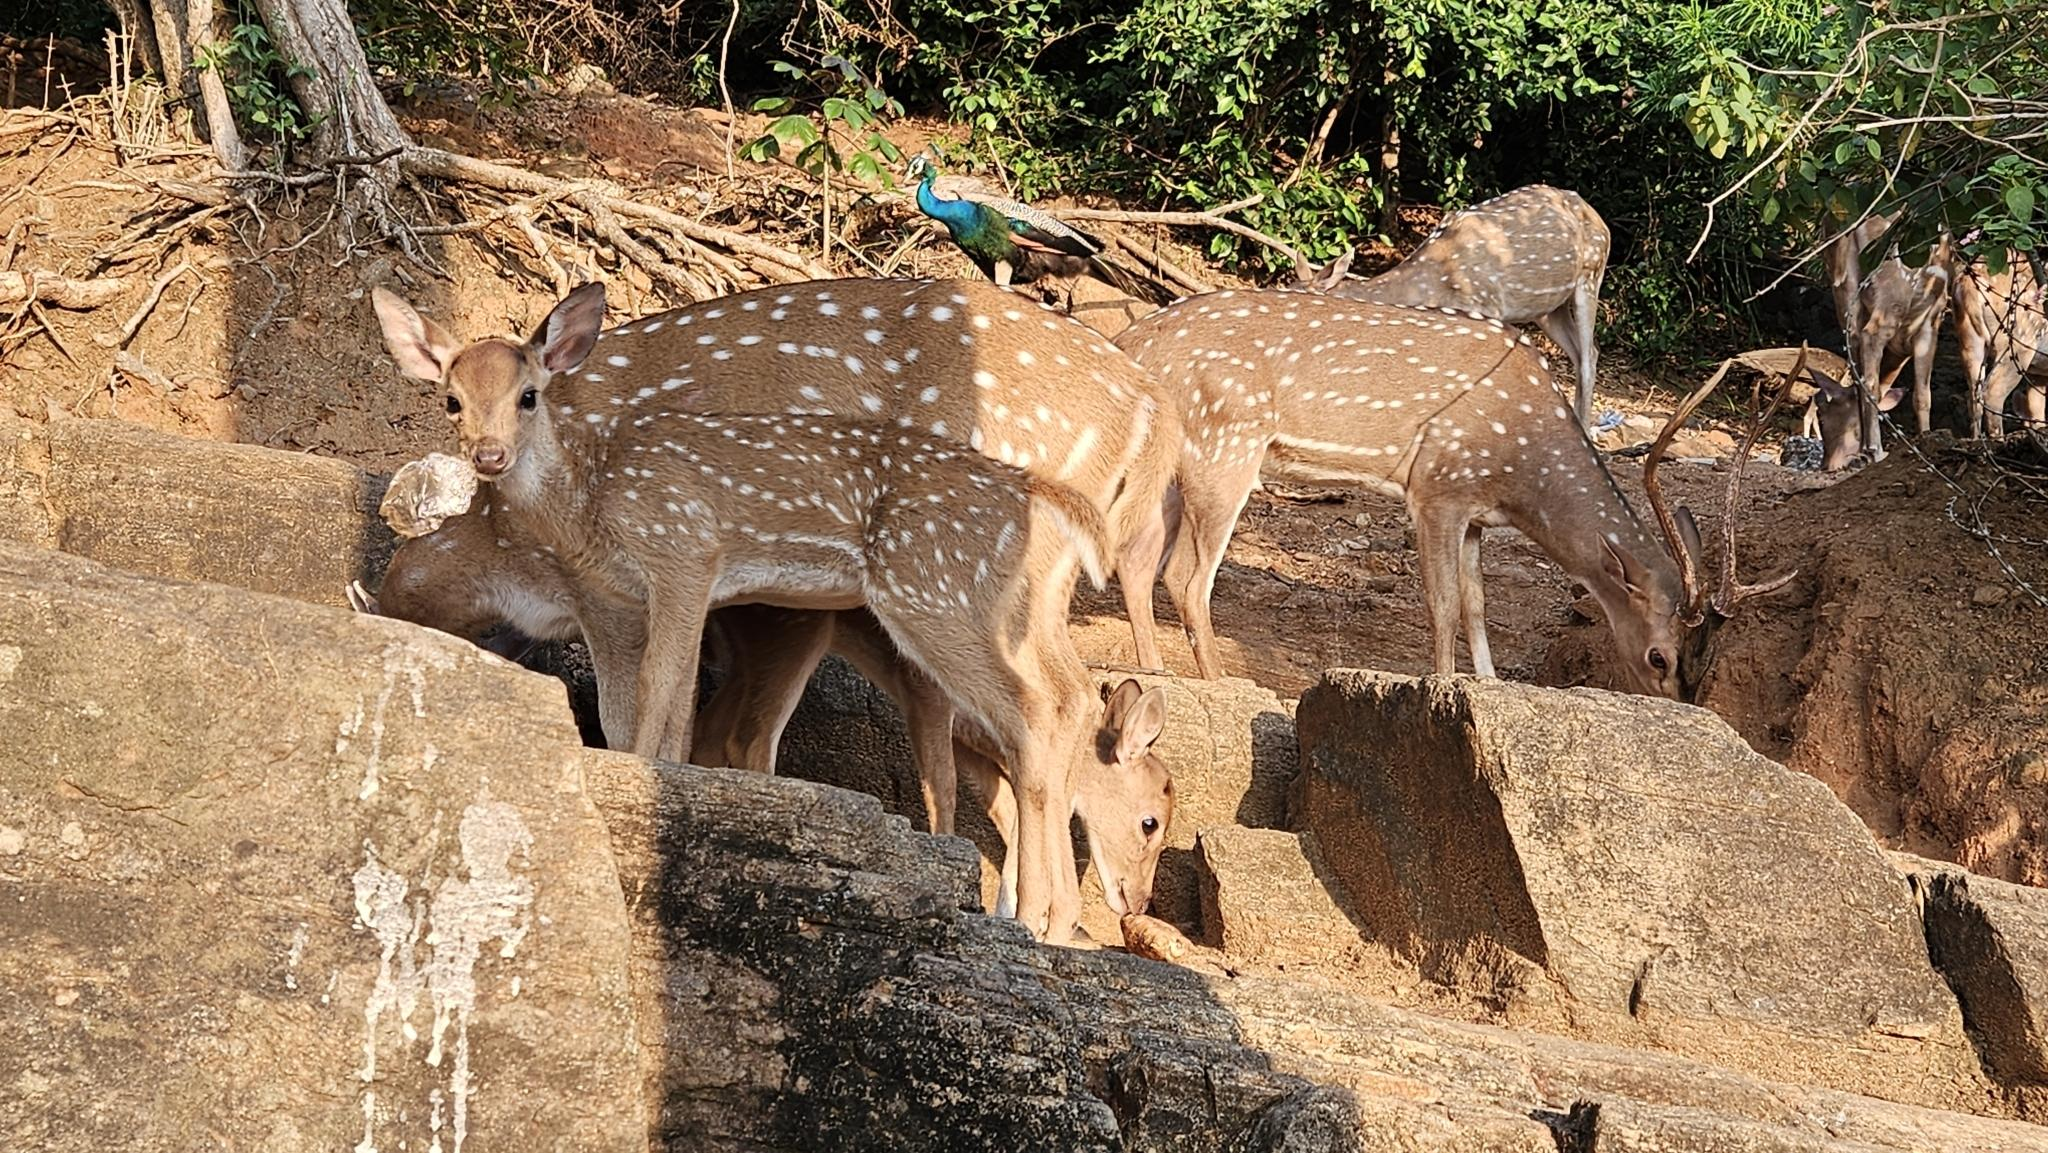Deer: (371, 283, 1101, 934), (1114, 290, 1689, 696), (591, 280, 1184, 664), (1332, 186, 1608, 432), (1075, 679, 1175, 918), (1461, 353, 1473, 363)
